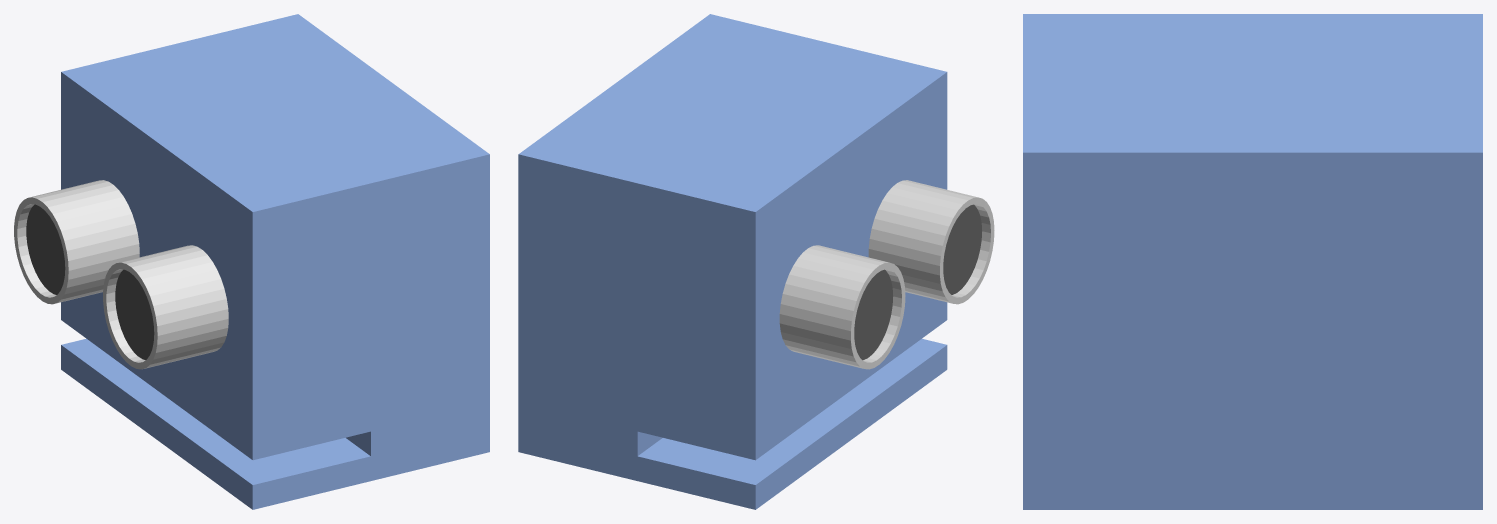
File: sensor.gltf
3 renders of one model, left to right at view 1: azimuth 30°, elevation 25°; view 2: azimuth 150°, elevation 25°; view 3: azimuth 270°, elevation 25°, orthographic. The views are drawn at different scales.
Parts seen in each view (by area): view 1: b_sensor_body_001_, b_sensor_metal_detector_001_001, b_sensor_metal_detector_001_, b_sensor_cover_001_, b_sensor_cover_001_001; view 2: b_sensor_body_001_, b_sensor_metal_detector_001_, b_sensor_metal_detector_001_001, b_sensor_cover_001_001, b_sensor_cover_001_; view 3: b_sensor_body_001_.
Boxes of the visible parts, box(x1,y1,x2,y2) form: b_sensor_body_001_: box(61, 14, 489, 509); b_sensor_metal_detector_001_001: box(103, 245, 228, 369); b_sensor_metal_detector_001_: box(14, 180, 139, 304); b_sensor_cover_001_: box(115, 269, 154, 359); b_sensor_cover_001_001: box(26, 204, 65, 294); b_sensor_body_001_: box(518, 14, 947, 509); b_sensor_metal_detector_001_: box(779, 245, 905, 369); b_sensor_metal_detector_001_001: box(868, 180, 994, 304); b_sensor_cover_001_001: box(854, 269, 893, 360); b_sensor_cover_001_: box(943, 204, 982, 294); b_sensor_body_001_: box(1023, 14, 1482, 509).
Size of the model in its own units: 52 by 48 by 56.
